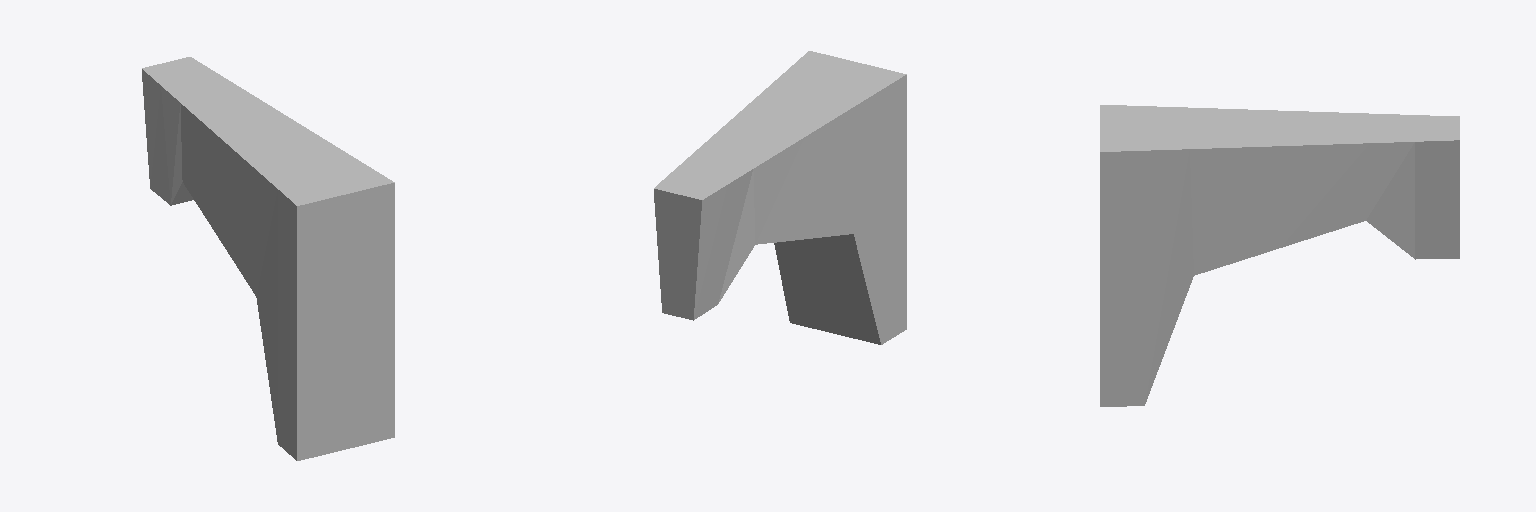
File: corbel_large.obj
3 views of the same model, side by side, from view 1: azimuth 30°, elevation 25°; view 2: azimuth 150°, elevation 25°; view 3: azimuth 270°, elevation 25° (orthographic).
Parts seen in each view (by area): view 1: cuboid; view 2: cuboid; view 3: cuboid.
Boxes of the visible parts, x1=… form: cuboid: x1=142, y1=57, x2=394, y2=460; cuboid: x1=654, y1=51, x2=906, y2=344; cuboid: x1=1100, y1=105, x2=1459, y2=406.
Size of the model in its own units: 0.625 by 1.56 by 2.